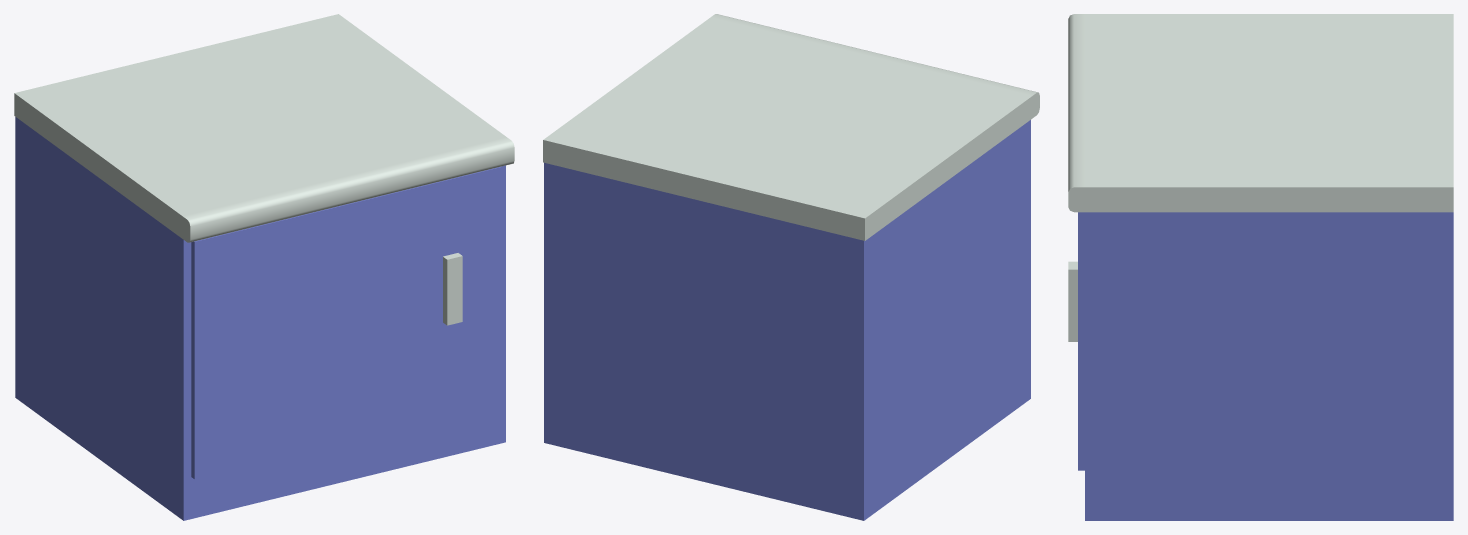
The model's file is Table1.fbx.
The picture shows the model from 3 angles, left to right: view 1: azimuth 30°, elevation 25°; view 2: azimuth 150°, elevation 25°; view 3: azimuth 270°, elevation 25°; orthographic projection. The views are drawn at different scales.
Visible parts, largest first — view 1: Cube.003, Cube.008; view 2: Cube.003; view 3: Cube.003, Cube.008.
Boxes of the visible parts, x1,y1,x2,y2 form: Cube.003: (14,14,514,520); Cube.008: (443,253,462,325); Cube.003: (543,14,1039,520); Cube.003: (1068,14,1453,520); Cube.008: (1068,261,1077,341).
Bounding box in the file's own units: 111 × 100 × 105.
